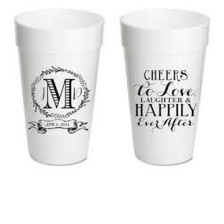paper_cup: (10, 4, 107, 171), (116, 3, 213, 170)
